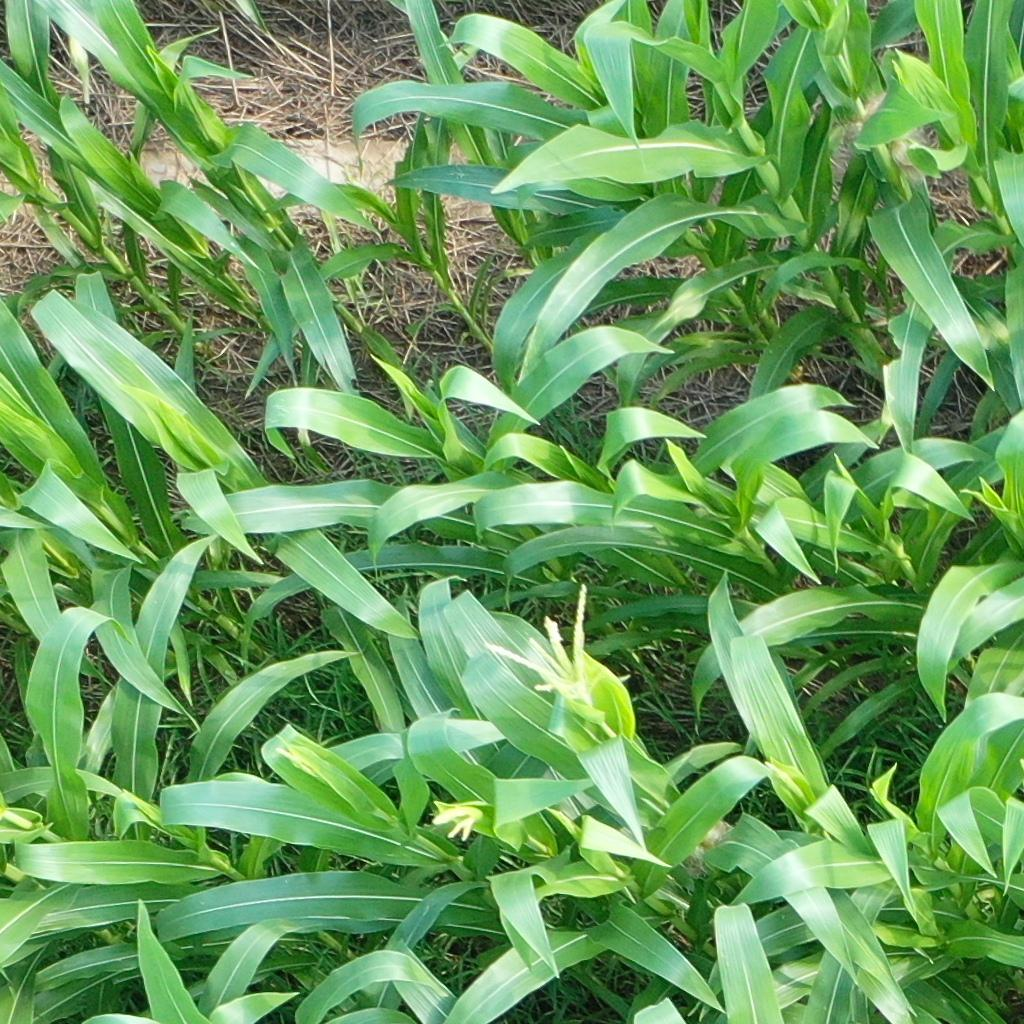Tassel: (481, 578, 614, 707), (425, 802, 484, 847), (764, 759, 806, 792)
